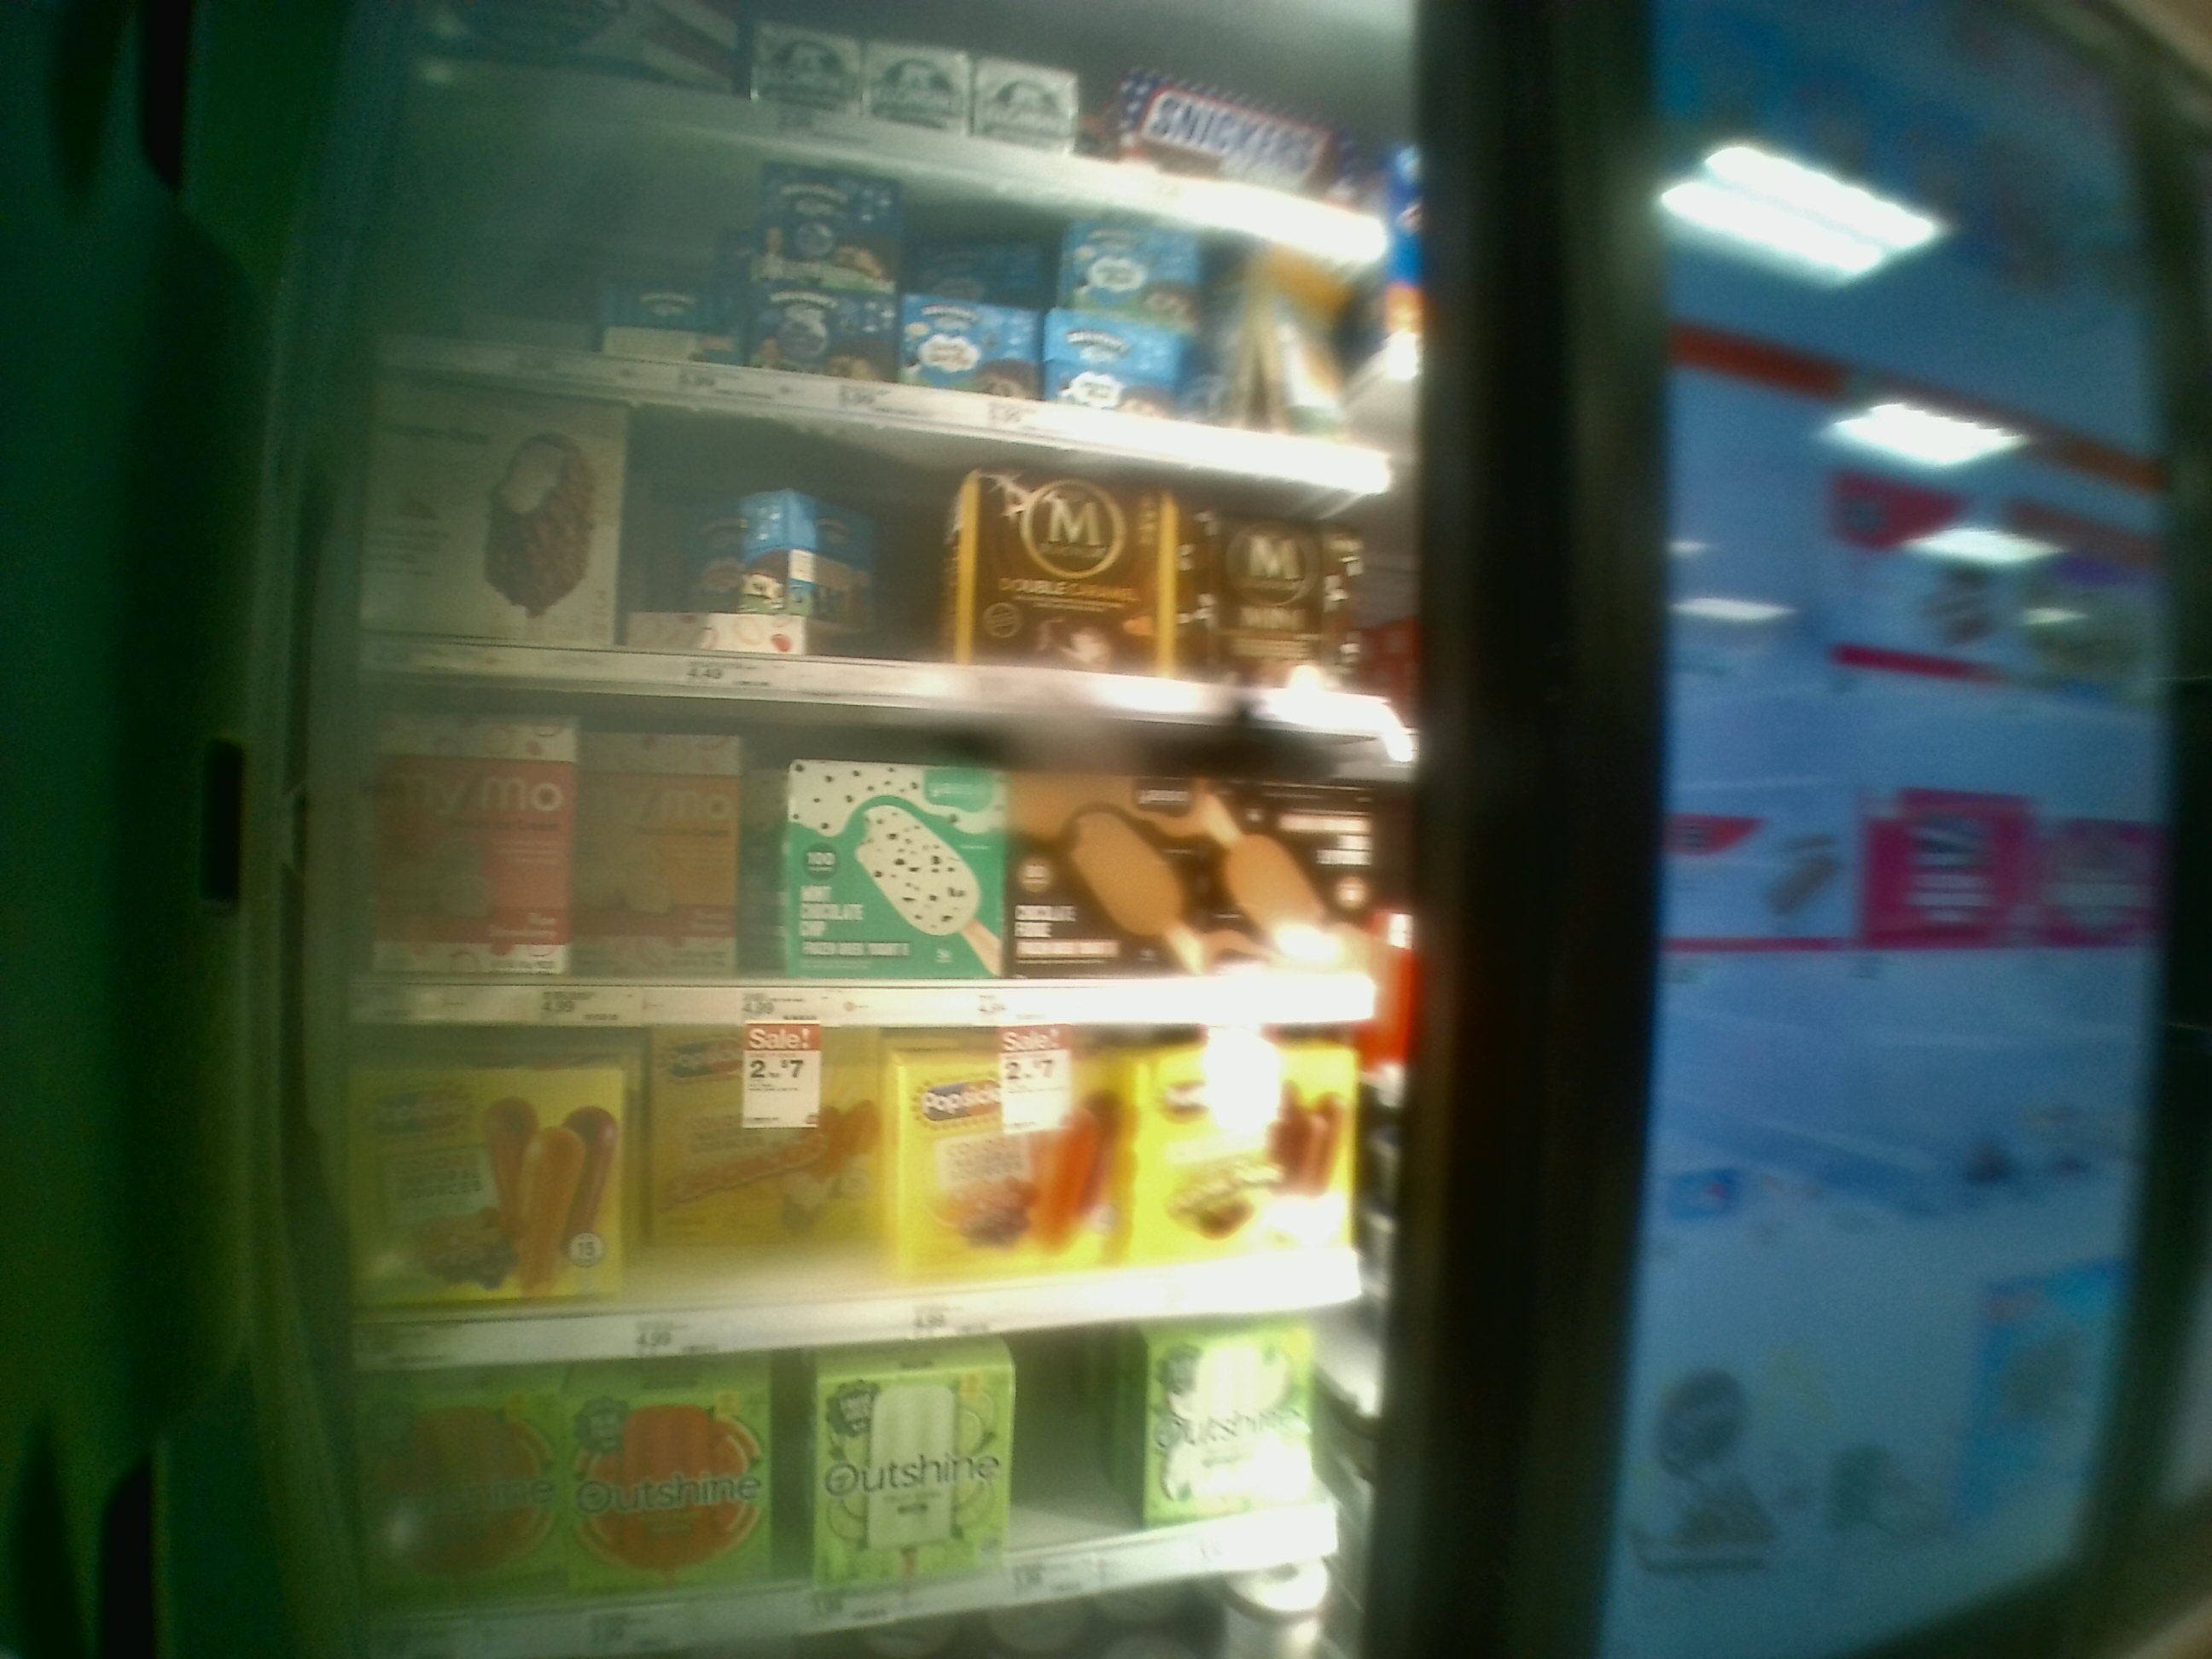ice-cream-shelf: (343, 667, 1420, 1030), (341, 1033, 1439, 1361)
